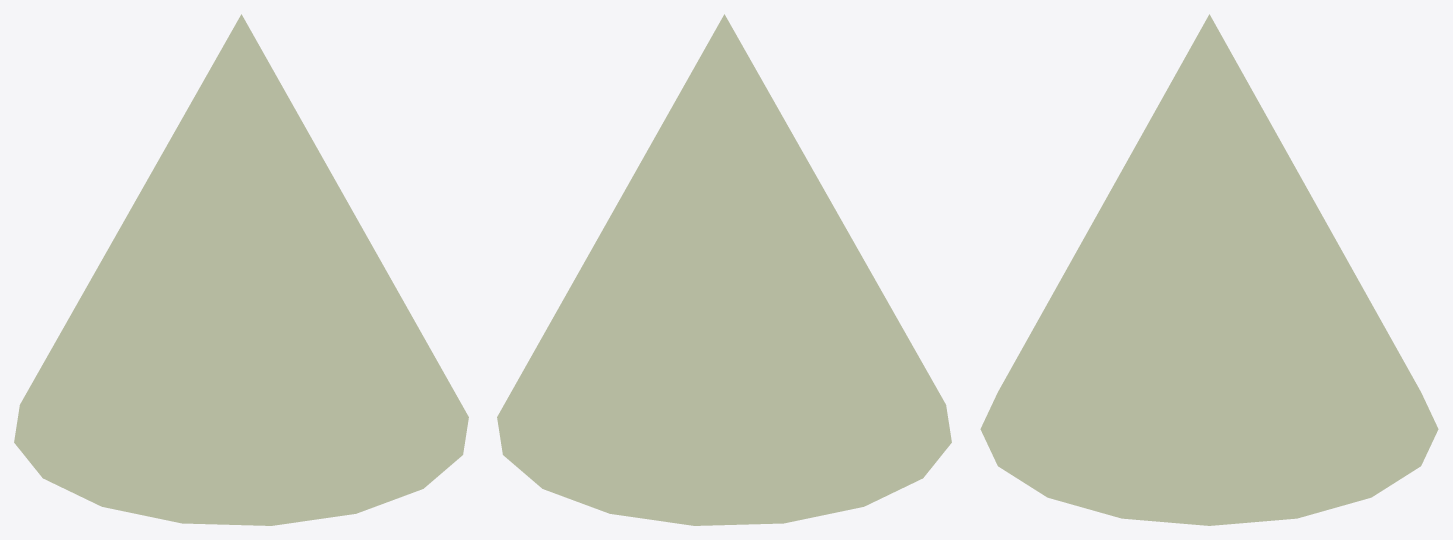
The picture shows the model from 3 angles, left to right: view 1: azimuth 30°, elevation 25°; view 2: azimuth 150°, elevation 25°; view 3: azimuth 270°, elevation 25°; orthographic projection.
Parts seen in each view (by area): view 1: cone15-0; view 2: cone15-0; view 3: cone15-0.
Part boxes in pixels (x1,y1,x2,y2): cone15-0: [14, 14, 468, 525]; cone15-0: [497, 14, 951, 525]; cone15-0: [980, 14, 1438, 525].
Bounding box in the file's own units: 1 × 1 × 1.
